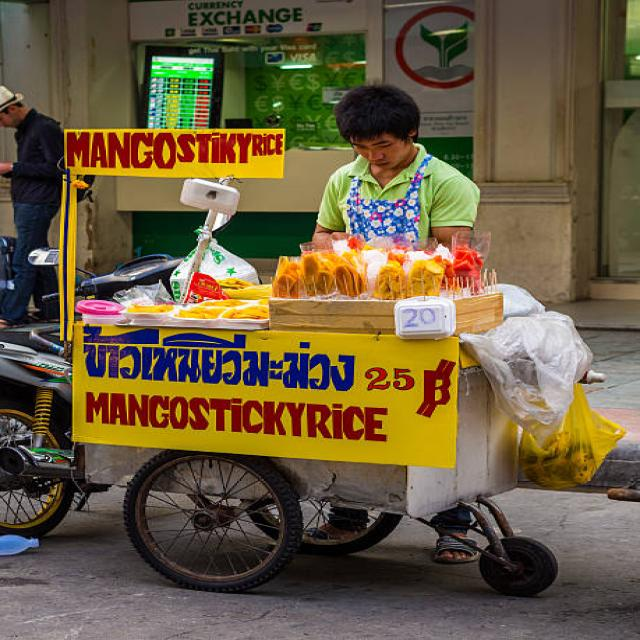Emperan: (0, 111, 634, 616)
